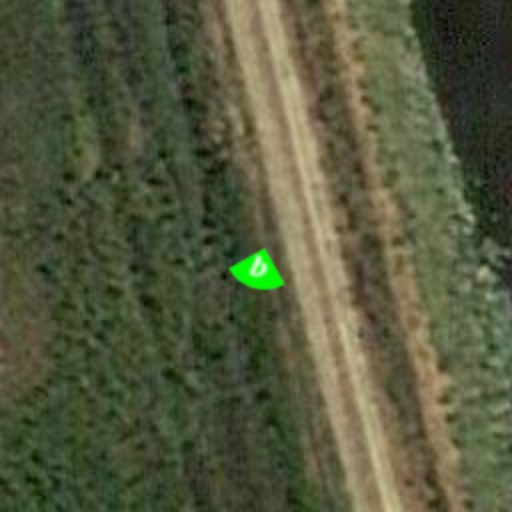quarter_circle: (222, 236, 294, 308)
